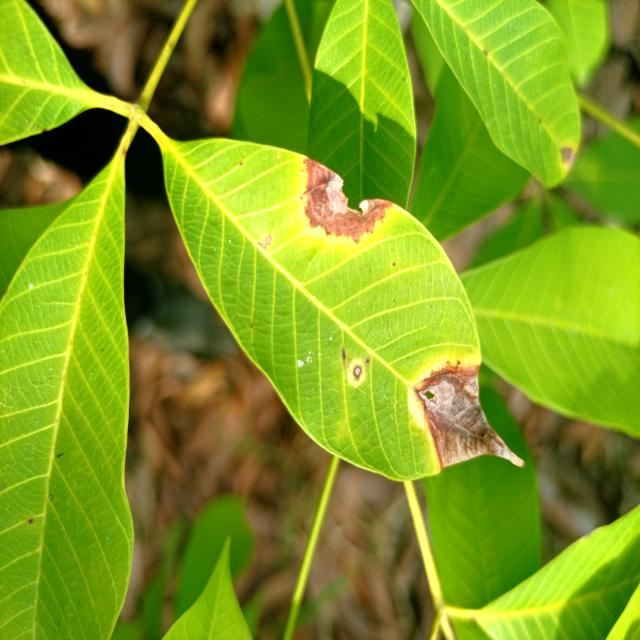Colletotrichum: (354, 366, 361, 378), (266, 236, 272, 245), (366, 358, 369, 363)
Leaf-Blight: (414, 363, 526, 467), (304, 156, 392, 244)
